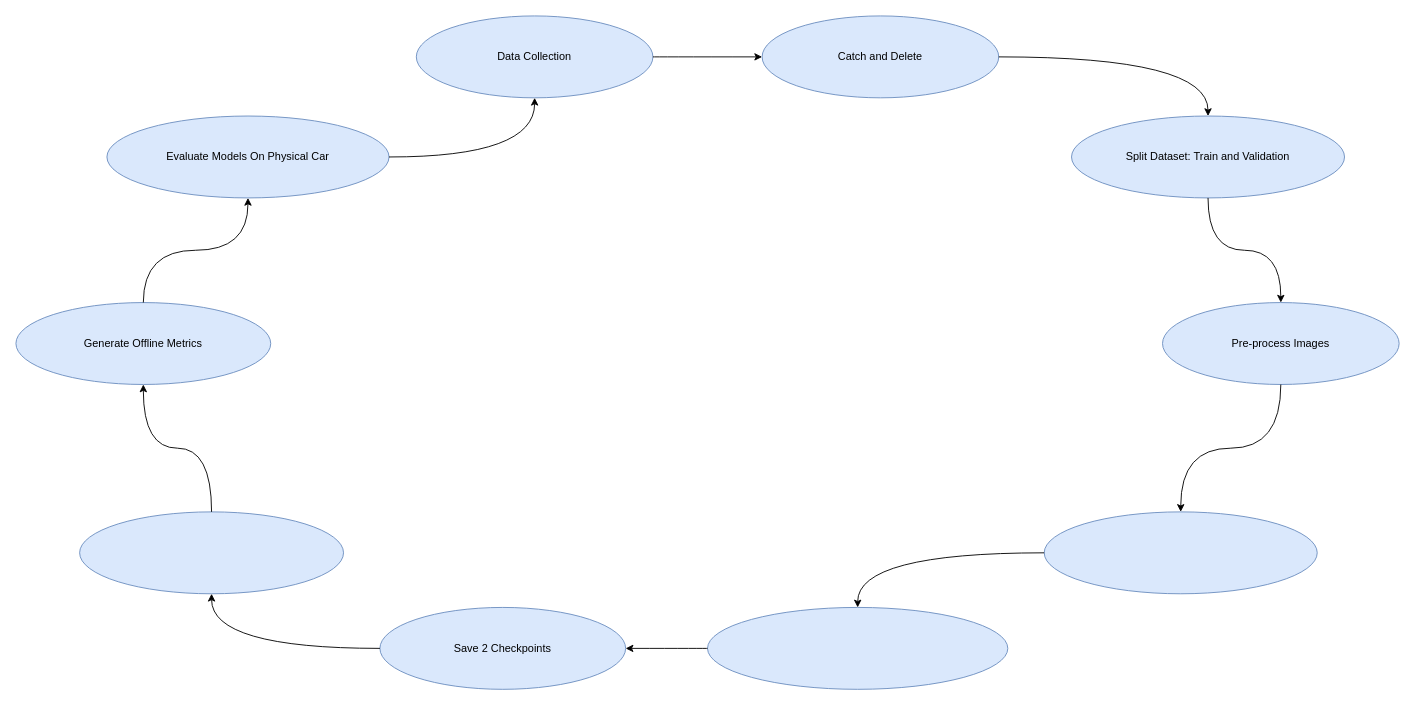
Some shapes in this 1415 by 705 pixel diagram are drawn without their labels. The box of each missing label's shape, as (x1, y1, x2, y2) in pixels:
Apply Data Augmentation: (1043, 511, 1317, 594)
Export Models To ONNX: (79, 511, 344, 594)
Train the Convolutional Neural Network: (707, 607, 1008, 689)
